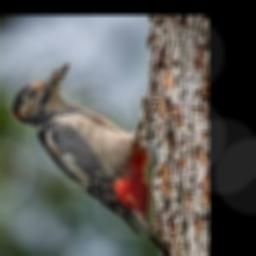Woodpecker: (12, 63, 172, 256)
